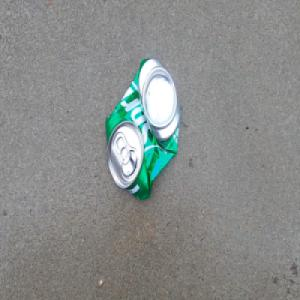SodaCan: (105, 58, 182, 204)
